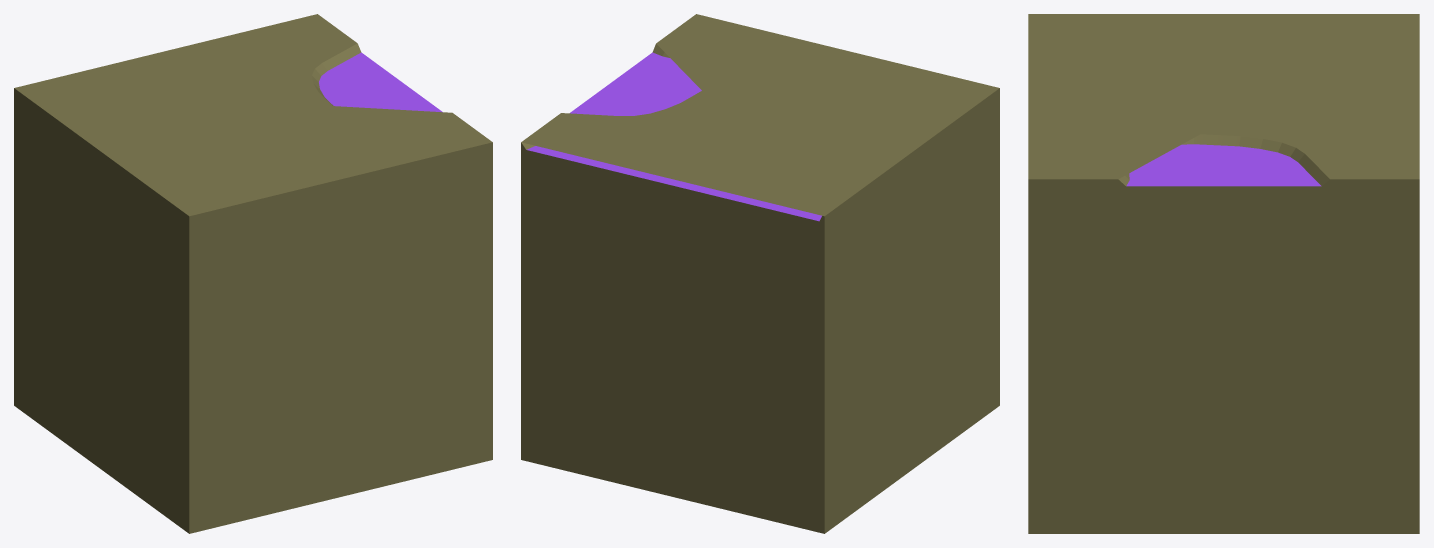
File: tile_toxic_4a_04.fbx
3 views of the same model, side by side, from view 1: azimuth 30°, elevation 25°; view 2: azimuth 150°, elevation 25°; view 3: azimuth 270°, elevation 25° (orthographic). The views are drawn at different scales.
Visible parts, largest first — view 1: tile_toxic_4a_04; view 2: tile_toxic_4a_04; view 3: tile_toxic_4a_04.
Part boxes in pixels (x1,y1,x2,y2): tile_toxic_4a_04: (14, 14, 492, 533); tile_toxic_4a_04: (521, 14, 999, 533); tile_toxic_4a_04: (1028, 14, 1419, 533).
Size of the model in its own units: 100 by 100 by 100.
